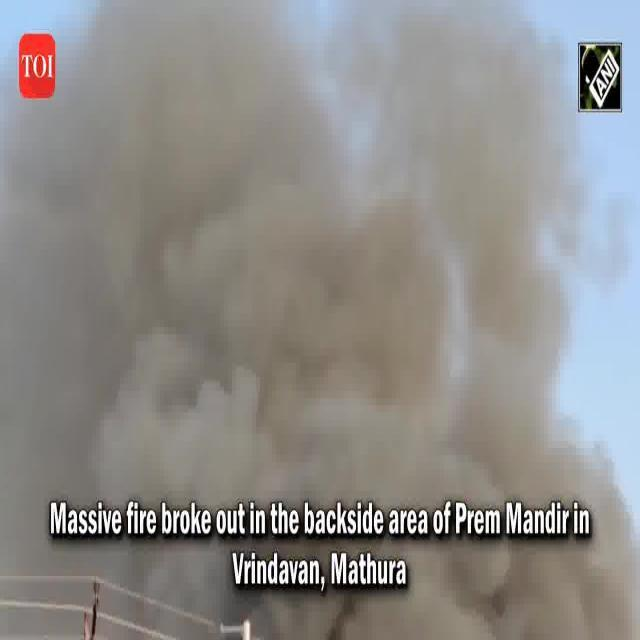Smoke: (16, 147, 538, 488)
